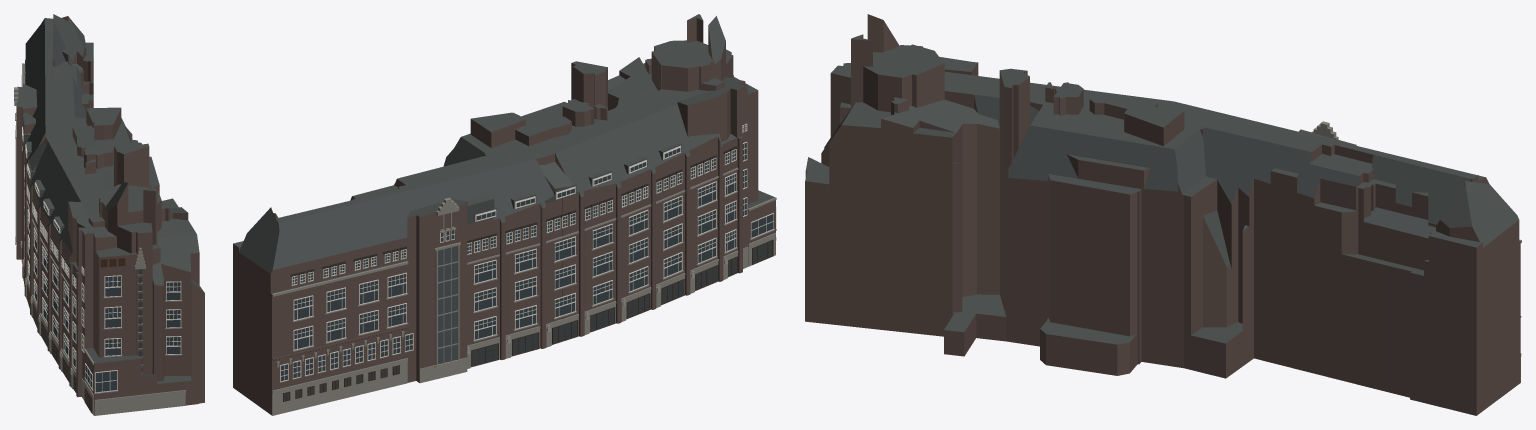
The model's file is sofitel-the-grand-1926.glb.
The picture shows the model from 3 angles, left to right: view 1: azimuth 30°, elevation 25°; view 2: azimuth 150°, elevation 25°; view 3: azimuth 270°, elevation 25°; orthographic projection. The views are drawn at different scales.
Visible parts, largest first — view 1: sofitel-the-grand-1926; view 2: sofitel-the-grand-1926; view 3: sofitel-the-grand-1926.
Boxes of the visible parts, x1,y1,x2,y2 form: sofitel-the-grand-1926: [14, 14, 204, 415]; sofitel-the-grand-1926: [233, 14, 776, 415]; sofitel-the-grand-1926: [805, 14, 1521, 415].
Bounding box in the file's own units: 38.04 × 31.45 × 74.28.
